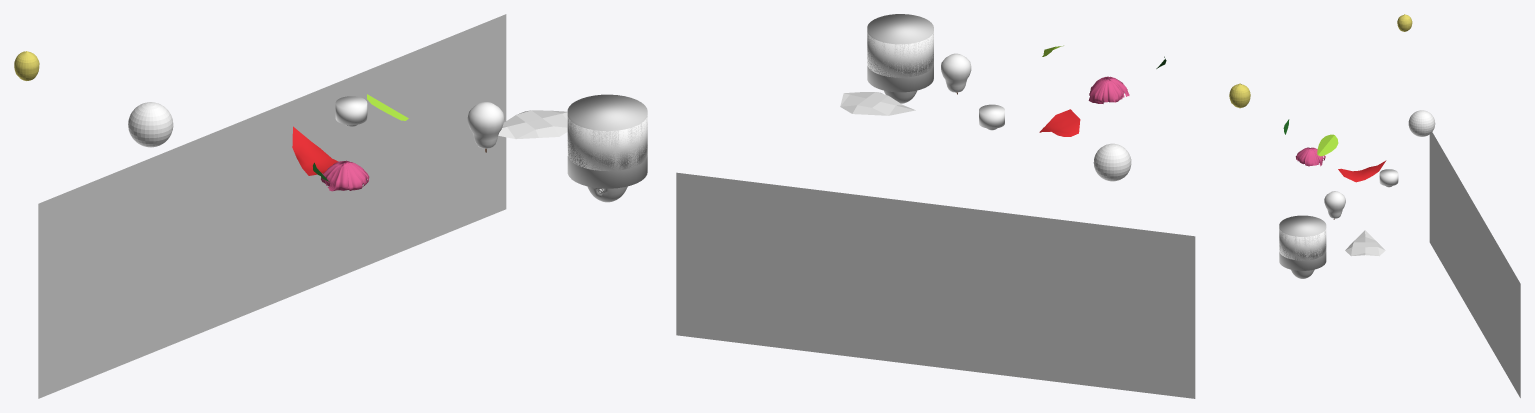
Rendered from perfume.glb.
3 renders of one model, left to right at view 1: azimuth 30°, elevation 25°; view 2: azimuth 150°, elevation 25°; view 3: azimuth 270°, elevation 25°, orthographic. The views are drawn at different scales.
Visible parts, largest first — view 1: Plane, Cylinder.002, Cylinder.001, Circle.002, Sphere.002, Sphere, BezierCurve, Circle.003, Cylinder.004, Sphere.001; view 2: Plane, Cylinder.002, Cylinder.001, Circle.002, Sphere.002, Sphere, BezierCurve, Circle.003, Cylinder.004; view 3: Plane, Cylinder.002, Cylinder.001, Circle.002, Sphere.002, Sphere, Circle.003, BezierCurve, Circle.001, Cylinder.004.
Part boxes in pixels (x1=…): Plane: x1=38, y1=14, x2=506, y2=398; Cylinder.002: x1=567, y1=94, x2=647, y2=202; Cylinder.001: x1=567, y1=115, x2=647, y2=171; Circle.002: x1=498, y1=110, x2=567, y2=139; Sphere.002: x1=128, y1=102, x2=173, y2=147; Sphere: x1=467, y1=102, x2=504, y2=152; BezierCurve: x1=321, y1=160, x2=369, y2=191; Circle.003: x1=292, y1=126, x2=338, y2=175; Cylinder.004: x1=335, y1=96, x2=367, y2=126; Sphere.001: x1=14, y1=51, x2=39, y2=80; Plane: x1=676, y1=172, x2=1195, y2=398; Cylinder.002: x1=867, y1=14, x2=933, y2=103; Cylinder.001: x1=867, y1=31, x2=933, y2=77; Circle.002: x1=840, y1=92, x2=915, y2=115; Sphere.002: x1=1093, y1=143, x2=1131, y2=181; Sphere: x1=941, y1=53, x2=971, y2=94; BezierCurve: x1=1088, y1=76, x2=1129, y2=103; Circle.003: x1=1039, y1=109, x2=1080, y2=136; Cylinder.004: x1=979, y1=104, x2=1004, y2=130; Plane: x1=1429, y1=132, x2=1520, y2=397; Cylinder.002: x1=1279, y1=215, x2=1326, y2=278; Cylinder.001: x1=1279, y1=228, x2=1326, y2=260; Circle.002: x1=1345, y1=230, x2=1385, y2=256; Sphere.002: x1=1408, y1=110, x2=1435, y2=136; Sphere: x1=1324, y1=191, x2=1345, y2=219; Circle.003: x1=1338, y1=160, x2=1386, y2=182; BezierCurve: x1=1295, y1=147, x2=1325, y2=166; Circle.001: x1=1317, y1=134, x2=1338, y2=156; Cylinder.004: x1=1379, y1=169, x2=1398, y2=187.
Bounding box in the file's own units: 29.96 × 18.06 × 18.08.
